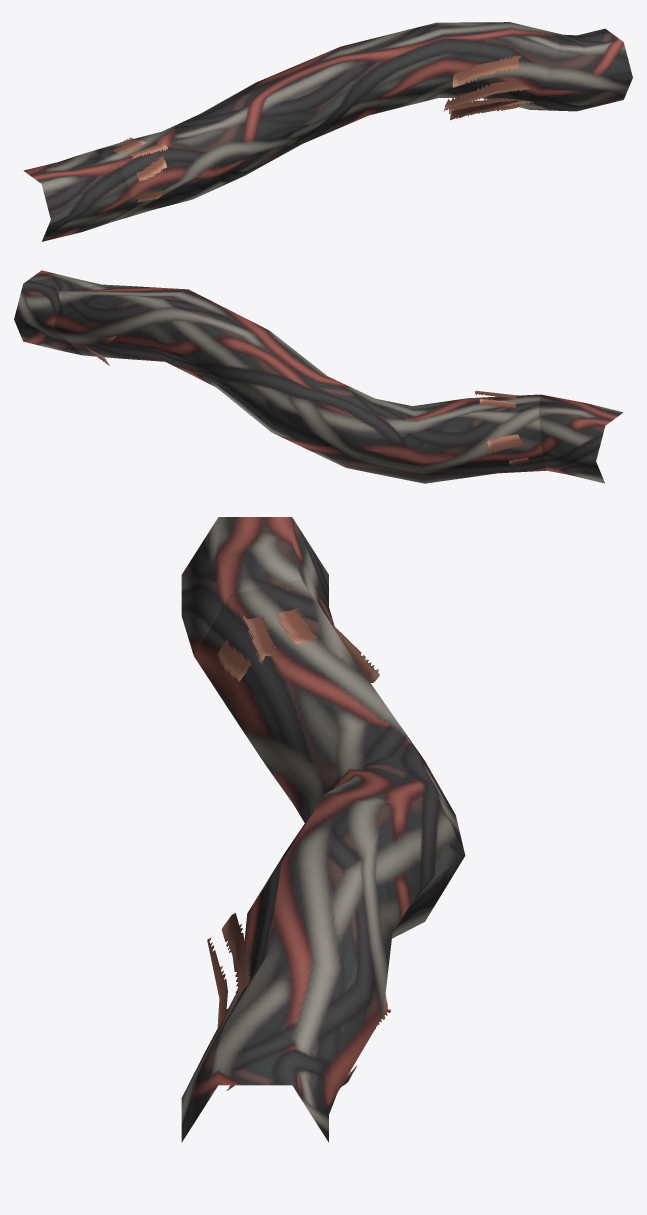
The model's file is robotentacle_busted_3unit_02_wirebundle.glb.
3 renders of one model, top to bottom at view 1: azimuth 30°, elevation 25°; view 2: azimuth 150°, elevation 25°; view 3: azimuth 270°, elevation 25°, orthographic. The views are drawn at different scales.
Parts seen in each view (by area): view 1: ghost_in_machine.robotentacle_busted_3unit_02_wirebundle-Mes (×3); view 2: ghost_in_machine.robotentacle_busted_3unit_02_wirebundle-Mes (×3); view 3: ghost_in_machine.robotentacle_busted_3unit_02_wirebundle-Mes (×3).
Boxes of the visible parts, bbox=[...] form: ghost_in_machine.robotentacle_busted_3unit_02_wirebundle-Mes (×3): bbox=[23, 22, 632, 241]; ghost_in_machine.robotentacle_busted_3unit_02_wirebundle-Mes (×3): bbox=[14, 270, 623, 483]; ghost_in_machine.robotentacle_busted_3unit_02_wirebundle-Mes (×3): bbox=[181, 517, 465, 1142].
Size of the model in its own units: 3.1 by 0.5723 by 0.6543.
2 materials, 2 textured.
